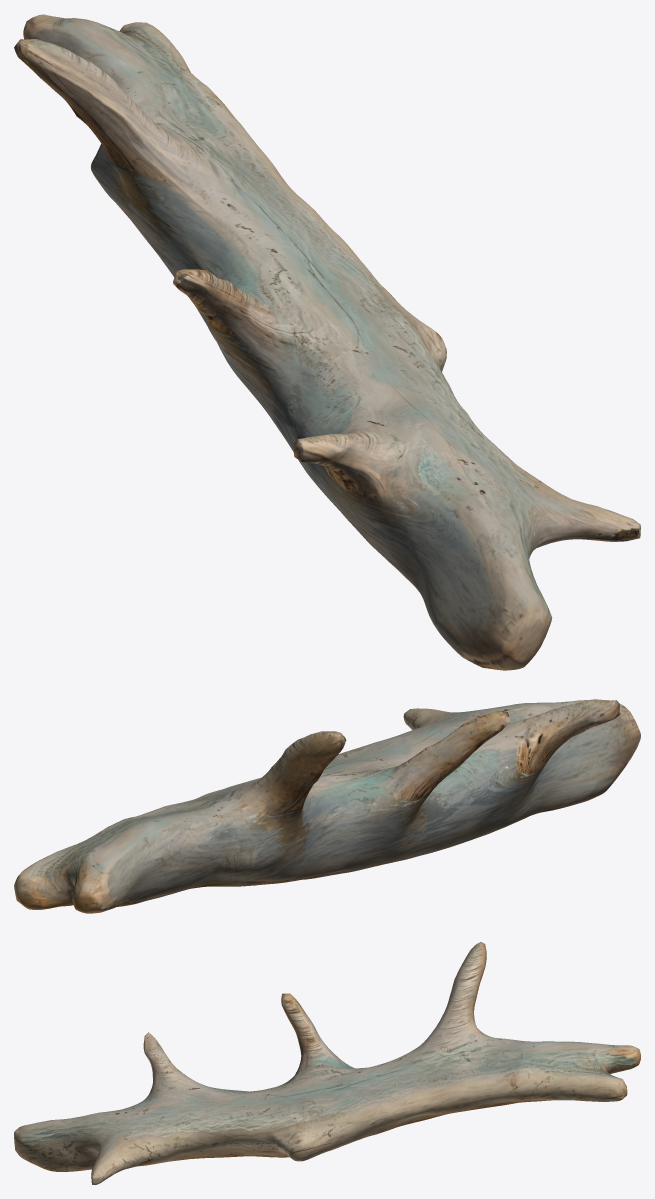
Rendered from 2e2e1eff-61dc-4ee0-b1a9-6df7f247f046.glb.
3 renders of one model, top to bottom at view 1: azimuth 30°, elevation 25°; view 2: azimuth 150°, elevation 25°; view 3: azimuth 270°, elevation 25°, orthographic. The views are drawn at different scales.
Size of the model in its own units: 0.3593 by 0.4277 by 1.2.
1 material, 1 textured.
